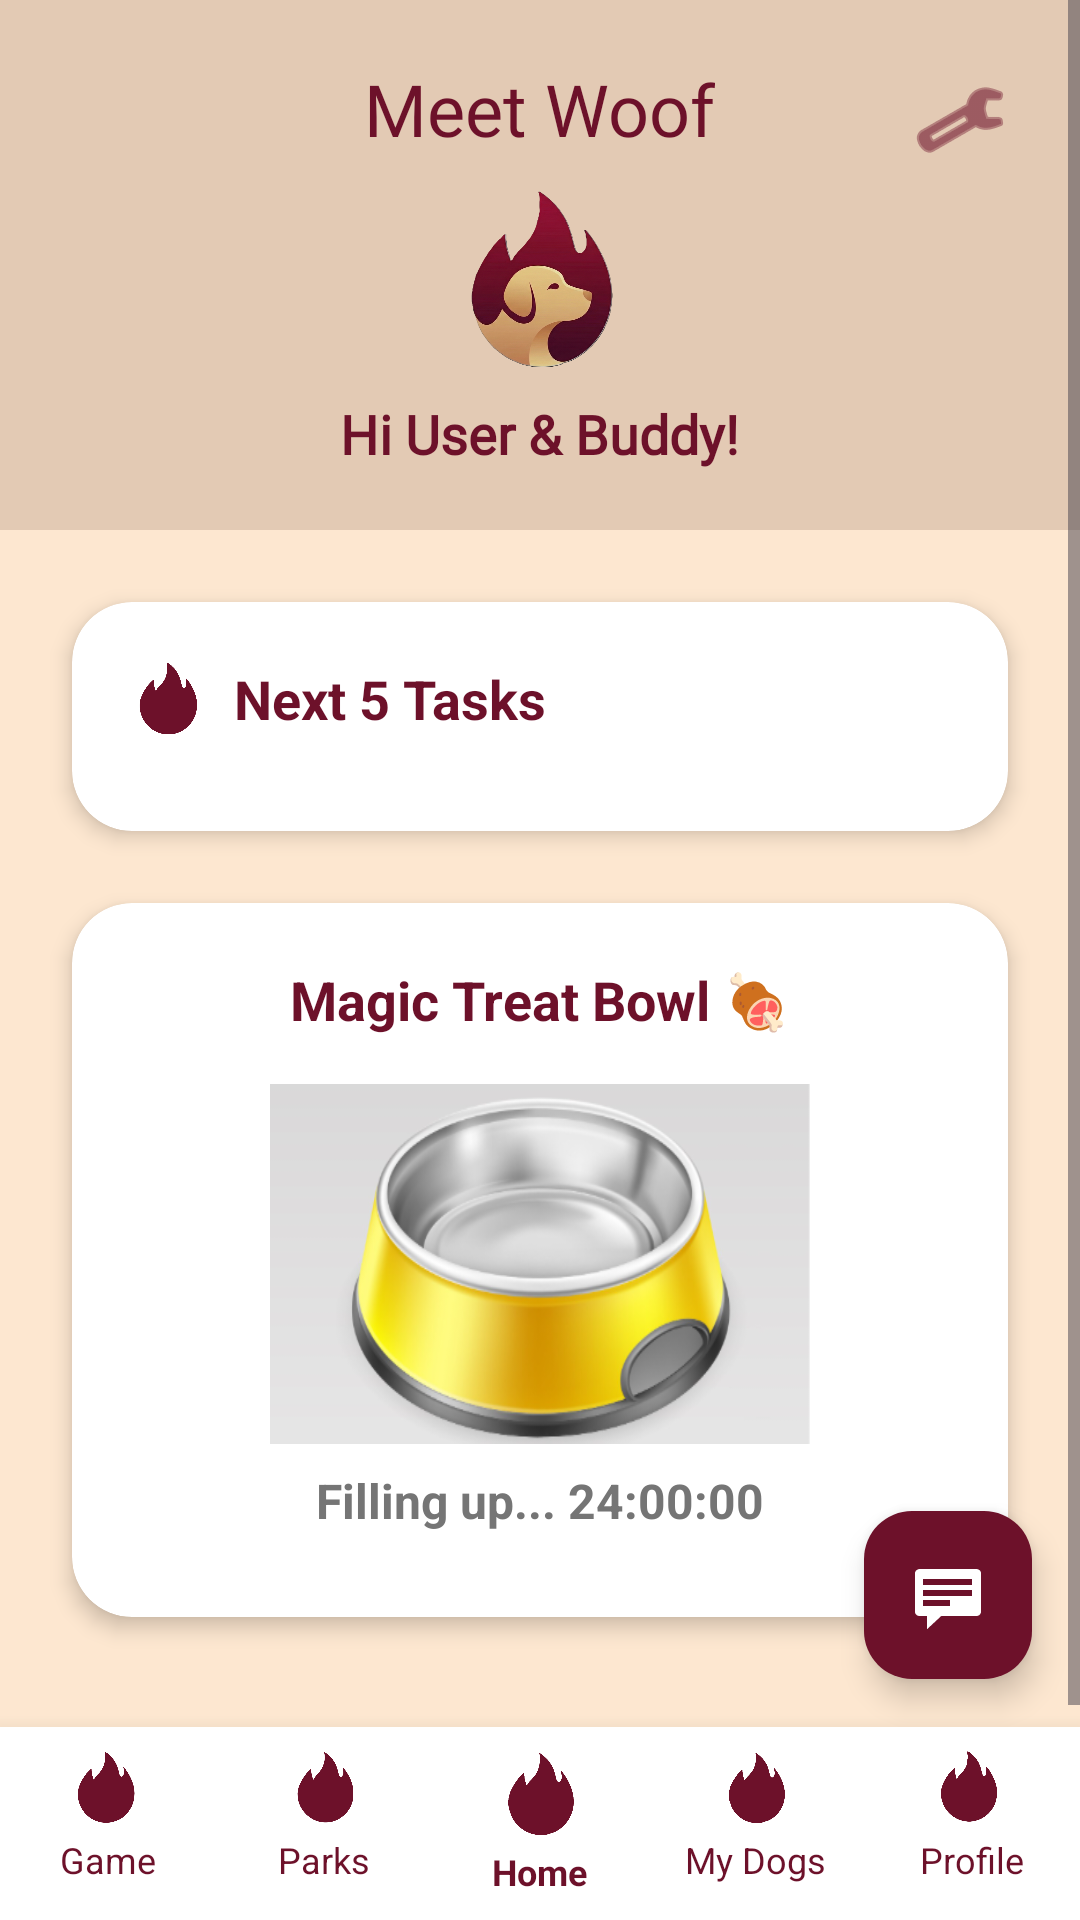

Where to tap for icons on this 1080px x 1920px app screen, as [x,y]:
My Chats: [948,1595]
preferences: [960,120]
